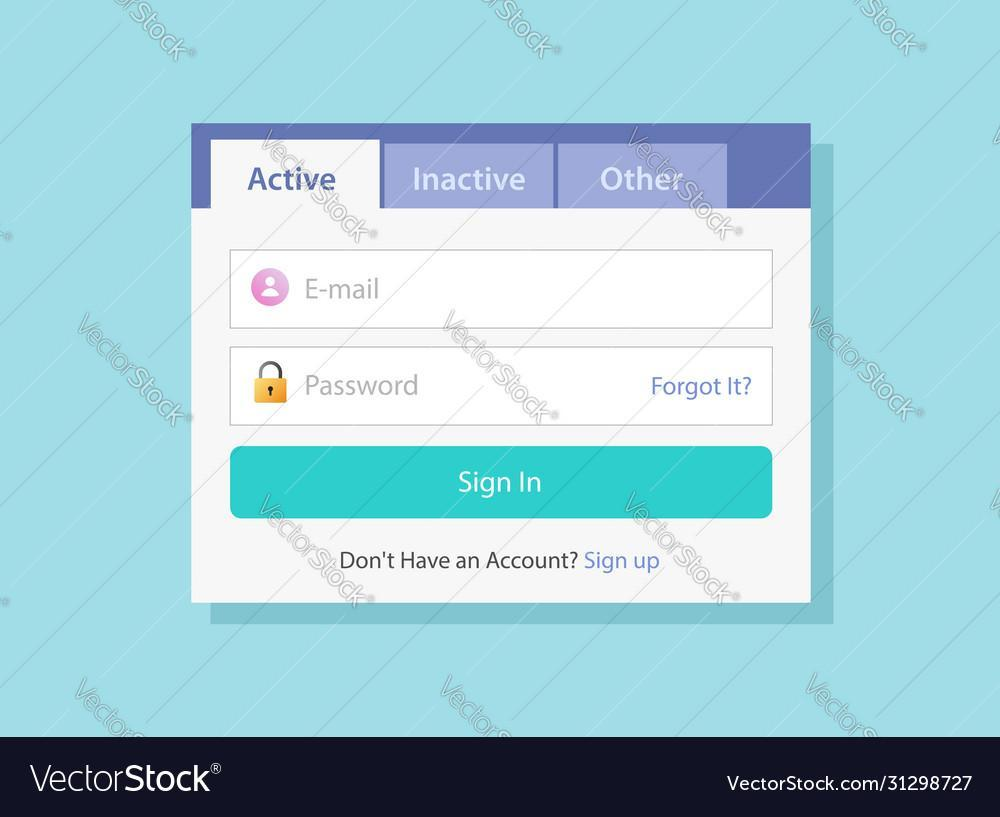button: (233, 445, 775, 522), (559, 143, 730, 212), (214, 140, 381, 209), (386, 144, 555, 211)
input: (227, 345, 778, 430), (230, 252, 775, 331)
